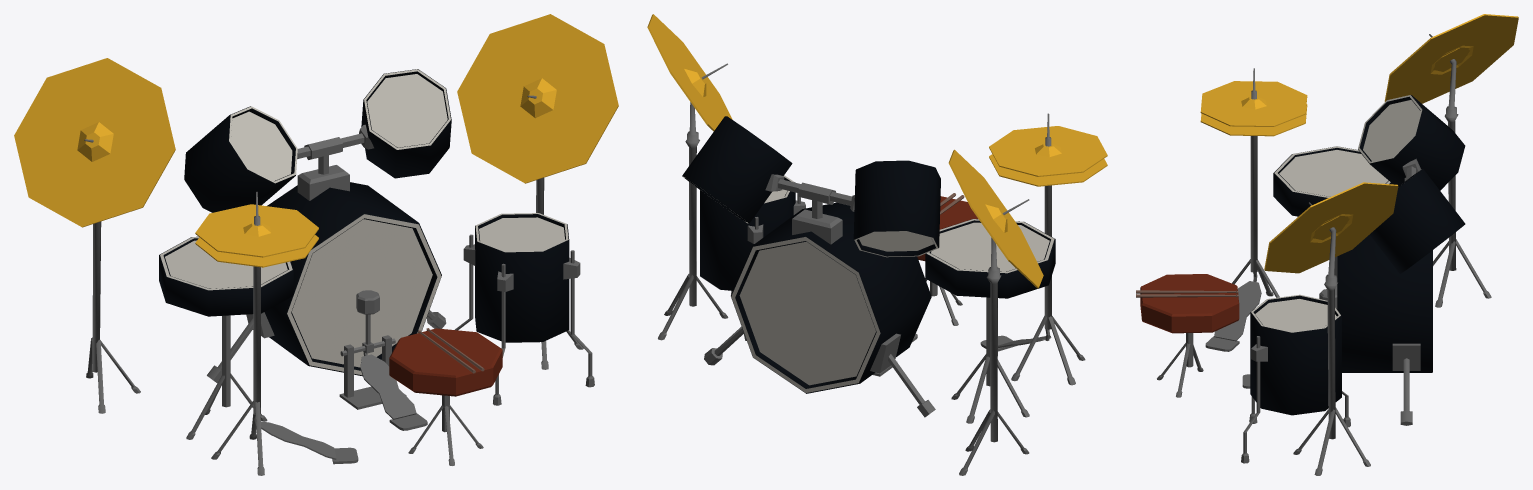
The model's file is drums.glb.
The picture shows the model from 3 angles, left to right: view 1: azimuth 30°, elevation 25°; view 2: azimuth 150°, elevation 25°; view 3: azimuth 270°, elevation 25°; orthographic projection. The views are drawn at different scales.
Visible parts, largest first — view 1: Drums_Body, Drum_Crash, Drum_Ride, Drum_Kick, Drum_Tom1, Drum_HiHat, Drum_Tom2, Drum_Snare, Drum_FloorTom, Drum_OpenHiHat; view 2: Drums_Body, Drum_Kick, Drum_HiHat, Drum_Ride, Drum_Snare, Drum_Crash, Drum_Tom2, Drum_OpenHiHat; view 3: Drums_Body, Drum_Crash, Drum_Ride, Drum_HiHat, Drum_Snare, Drum_Tom2, Drum_FloorTom, Drum_OpenHiHat.
Boxes of the visible parts, x1=… form: Drums_Body: x1=77, y1=69, x2=594, y2=475; Drum_Crash: x1=457, y1=14, x2=618, y2=183; Drum_Ride: x1=14, y1=58, x2=175, y2=227; Drum_Kick: x1=287, y1=214, x2=441, y2=375; Drum_Tom1: x1=364, y1=69, x2=450, y2=149; Drum_HiHat: x1=195, y1=204, x2=318, y2=257; Drum_Tom2: x1=229, y1=106, x2=297, y2=183; Drum_Snare: x1=160, y1=236, x2=292, y2=290; Drum_FloorTom: x1=475, y1=213, x2=568, y2=252; Drum_OpenHiHat: x1=195, y1=235, x2=318, y2=267; Drums_Body: x1=658, y1=63, x2=1085, y2=475; Drum_Kick: x1=731, y1=237, x2=880, y2=392; Drum_HiHat: x1=989, y1=126, x2=1107, y2=176; Drum_Ride: x1=948, y1=149, x2=1043, y2=288; Drum_Snare: x1=926, y1=219, x2=1054, y2=273; Drum_Crash: x1=647, y1=14, x2=732, y2=131; Drum_Tom2: x1=854, y1=231, x2=938, y2=257; Drum_OpenHiHat: x1=989, y1=154, x2=1107, y2=186; Drums_Body: x1=1136, y1=34, x2=1491, y2=475; Drum_Crash: x1=1264, y1=182, x2=1398, y2=273; Drum_Ride: x1=1384, y1=14, x2=1518, y2=103; Drum_HiHat: x1=1200, y1=81, x2=1307, y2=126; Drum_Snare: x1=1274, y1=146, x2=1390, y2=197; Drum_Tom2: x1=1358, y1=95, x2=1422, y2=163; Drum_FloorTom: x1=1251, y1=294, x2=1340, y2=332; Drum_OpenHiHat: x1=1200, y1=104, x2=1307, y2=136.
Bounding box in the file's own units: 4 × 2.52 × 2.97.
